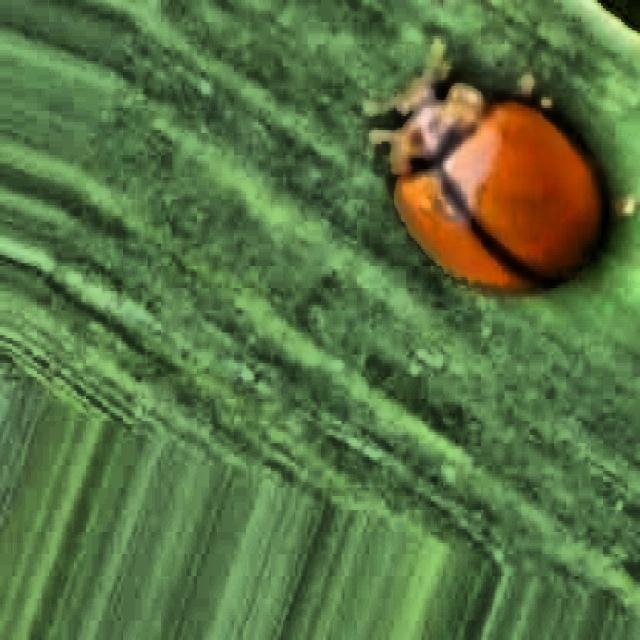Ladybug: (299, 0, 640, 435)
